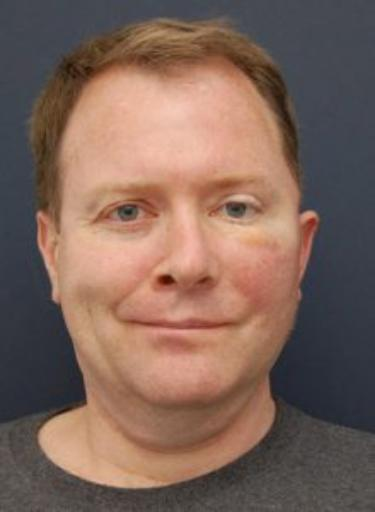left_eye: (207, 201, 264, 226)
left_lip_corner: (224, 316, 237, 333)
right_eye: (96, 201, 160, 226)
right_lip_corner: (117, 314, 138, 329)
